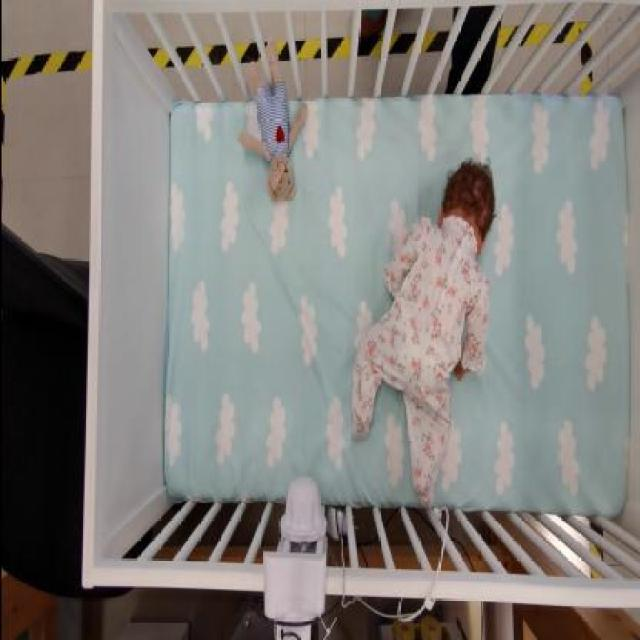baby: (345, 154, 502, 508)
